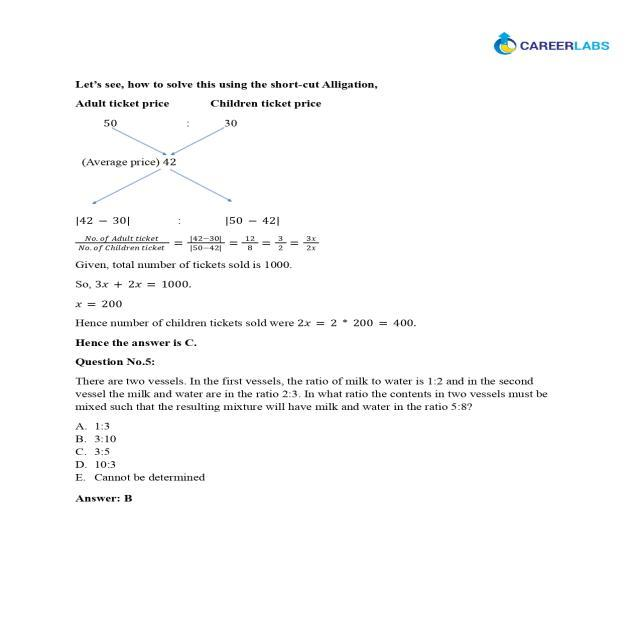Answer_Block: (61, 414, 565, 483)
Description: (61, 71, 565, 352), (61, 483, 565, 512)
Question_Answer_Block: (61, 351, 565, 483)
Question_Block: (61, 351, 565, 412)
Question_Paper_Area: (61, 71, 565, 512)
